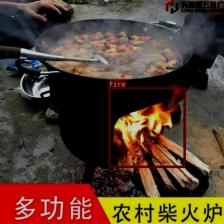fire: (108, 87, 185, 167)
